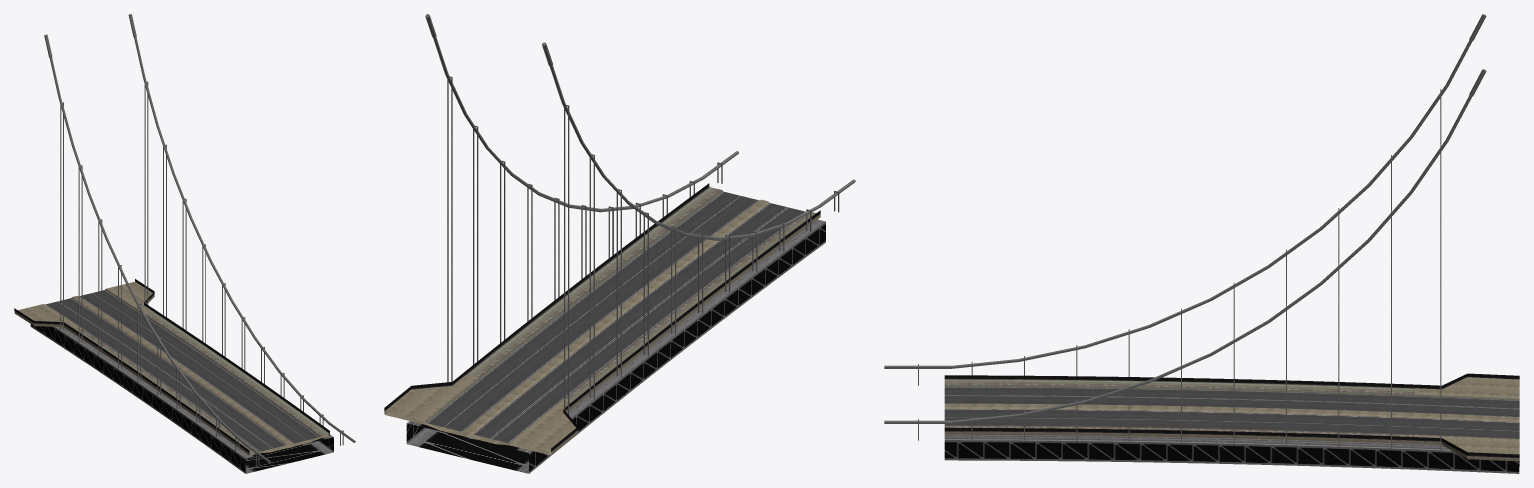
Rendered from ggbrig_03_sfw.obj.
The picture shows the model from 3 angles, left to right: view 1: azimuth 30°, elevation 25°; view 2: azimuth 150°, elevation 25°; view 3: azimuth 270°, elevation 25°; orthographic projection. The views are drawn at different scales.
Visible parts, largest first — view 1: ggbrig_03_sfw; view 2: ggbrig_03_sfw; view 3: ggbrig_03_sfw.
Part boxes in pixels (x1,y1,x2,y2): ggbrig_03_sfw: (14, 14, 355, 473); ggbrig_03_sfw: (384, 14, 855, 473); ggbrig_03_sfw: (884, 14, 1519, 473).
Size of the model in its own units: 54.86 by 131 by 187.
6 materials, 6 textured.
